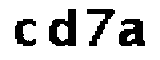7: (83, 4, 115, 52)
a: (118, 16, 146, 50)
c: (11, 18, 37, 49)
d: (46, 7, 79, 51)
